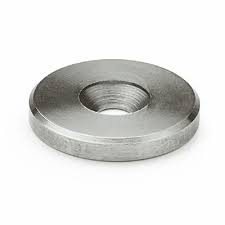No thread: (74, 76, 151, 123)
